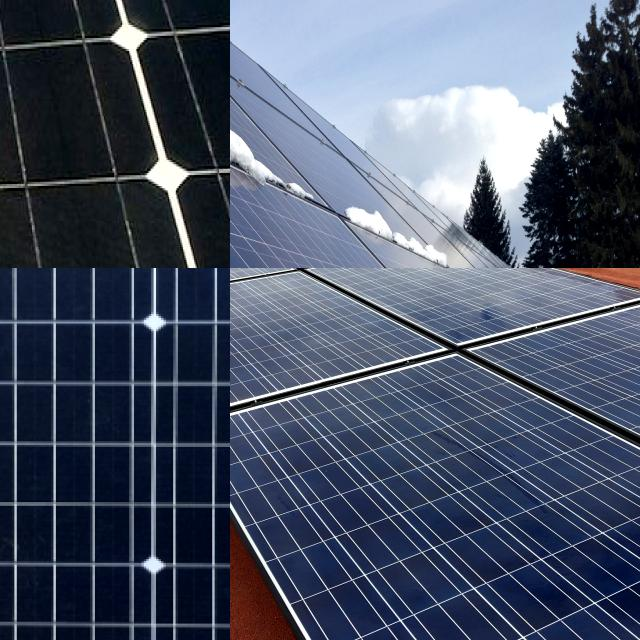crack: (230, 335, 640, 640), (0, 268, 230, 640), (277, 268, 640, 410), (448, 282, 640, 529), (230, 276, 456, 430)
panel: (230, 87, 323, 206), (350, 187, 467, 268), (230, 46, 284, 139)
shadow: (0, 0, 94, 70), (0, 0, 73, 59)
